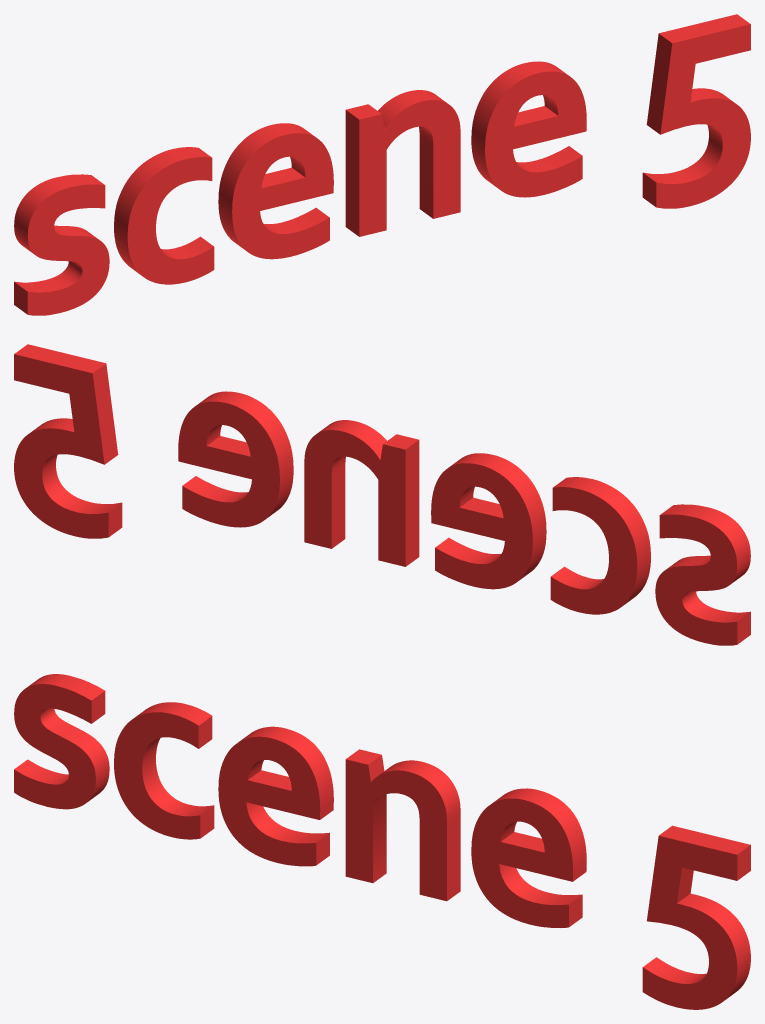
The picture shows the model from 3 angles, top to bottom: view 1: azimuth 30°, elevation 25°; view 2: azimuth 150°, elevation 25°; view 3: azimuth 330°, elevation 25°; orthographic projection.
Parts seen in each view (by area): view 1: Polygon_2, Polygon_3, Polygon_5, Polygon_4, Polygon, Polygon_6; view 2: Polygon_2, Polygon_3, Polygon_5, Polygon_4, Polygon, Polygon_6; view 3: Polygon_2, Polygon_5, Polygon_3, Polygon_4, Polygon, Polygon_6.
Part boxes in pixels (left/top/right/bottom): Polygon_2: left=642, top=14, right=750, bottom=208; Polygon_3: left=471, top=61, right=586, bottom=197; Polygon_5: left=218, top=123, right=333, bottom=259; Polygon_4: left=345, top=90, right=460, bottom=236; Polygon: left=14, top=174, right=109, bottom=315; Polygon_6: left=114, top=147, right=214, bottom=284; Polygon_2: left=14, top=344, right=122, bottom=538; Polygon_3: left=178, top=391, right=293, bottom=527; Polygon_5: left=431, top=453, right=546, bottom=589; Polygon_4: left=304, top=420, right=419, bottom=566; Polygon: left=655, top=504, right=750, bottom=645; Polygon_6: left=550, top=477, right=650, bottom=614; Polygon_2: left=642, top=825, right=750, bottom=1009; Polygon_5: left=218, top=726, right=333, bottom=866; Polygon_3: left=471, top=788, right=586, bottom=927; Polygon_4: left=345, top=749, right=460, bottom=901; Polygon: left=14, top=674, right=109, bottom=809; Polygon_6: left=114, top=702, right=214, bottom=839.
Bounding box in the file's own units: 611 × 137 × 20.
